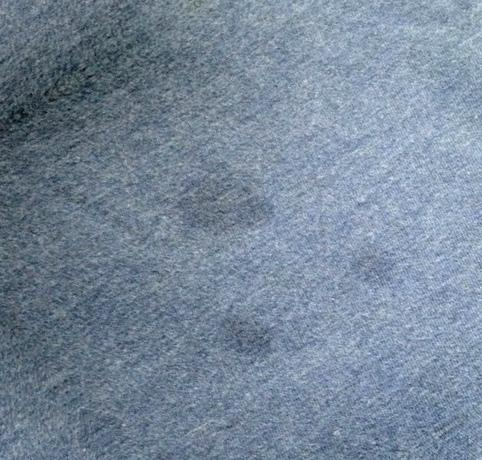stain: (175, 160, 283, 238), (216, 307, 284, 366), (350, 244, 399, 282)
